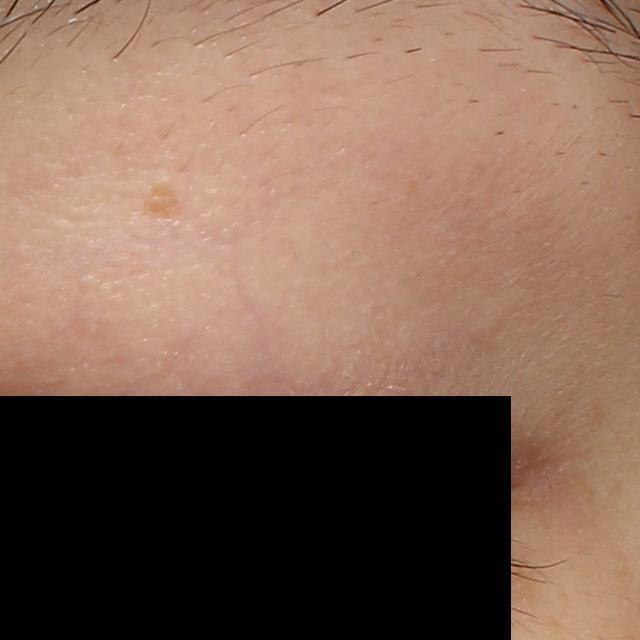melasma: (140, 178, 192, 226)
